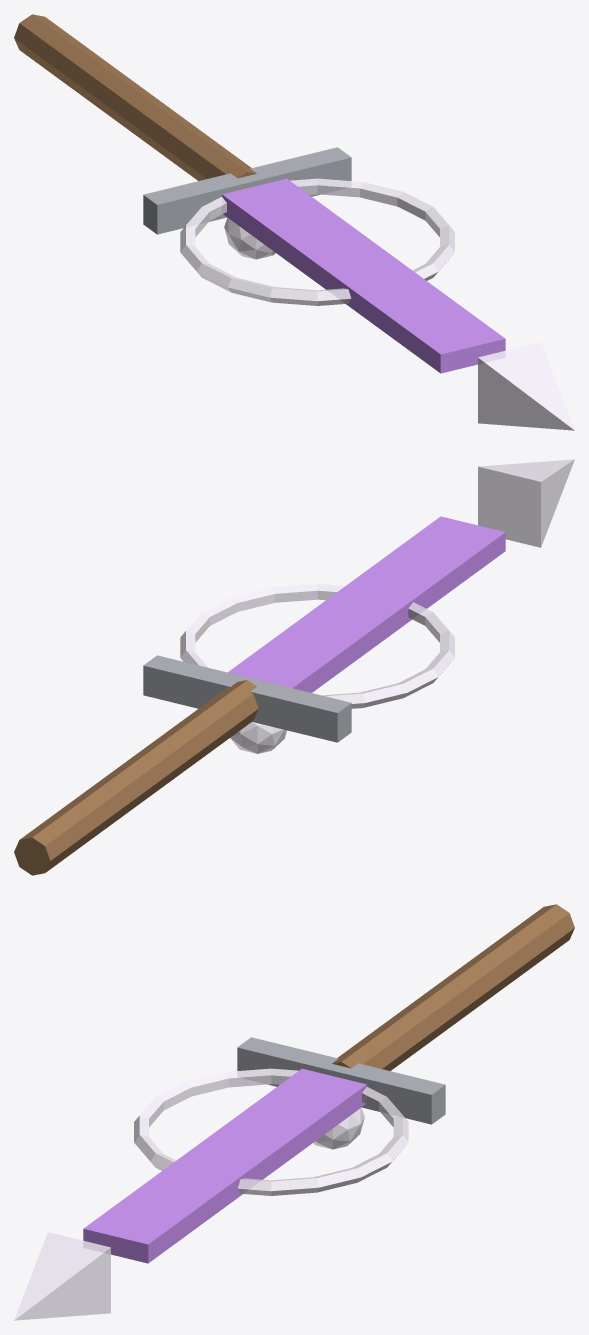
The model's file is 03_magic_weapon_upgrade.glb.
3 renders of one model, top to bottom at view 1: azimuth 30°, elevation 25°; view 2: azimuth 150°, elevation 25°; view 3: azimuth 330°, elevation 25°, orthographic.
Visible parts, largest first — view 1: enchanted_blade_or_focus, weapon_handle, rune_orbit, weapon_guard, weapon_tip, gem_socket; view 2: enchanted_blade_or_focus, weapon_handle, weapon_guard, weapon_tip, rune_orbit, gem_socket; view 3: enchanted_blade_or_focus, weapon_handle, rune_orbit, weapon_guard, weapon_tip, gem_socket.
Boxes of the visible parts, x1,y1,x2,y2 form: enchanted_blade_or_focus: [222, 178, 505, 373]; weapon_handle: [14, 14, 256, 180]; rune_orbit: [180, 178, 454, 305]; weapon_guard: [143, 147, 351, 234]; weapon_tip: [478, 342, 574, 430]; gem_socket: [224, 217, 275, 259]; enchanted_blade_or_focus: [228, 516, 505, 692]; weapon_handle: [14, 680, 258, 875]; weapon_guard: [143, 655, 351, 742]; weapon_tip: [478, 459, 574, 547]; rune_orbit: [180, 584, 454, 708]; gem_socket: [230, 722, 286, 753]; enchanted_blade_or_focus: [83, 1068, 366, 1263]; weapon_handle: [332, 904, 574, 1070]; rune_orbit: [134, 1068, 408, 1195]; weapon_guard: [237, 1037, 445, 1124]; weapon_tip: [14, 1232, 110, 1320]; gem_socket: [313, 1107, 364, 1149].
Size of the model in its own units: 0.596 by 0.2178 by 2.32.
